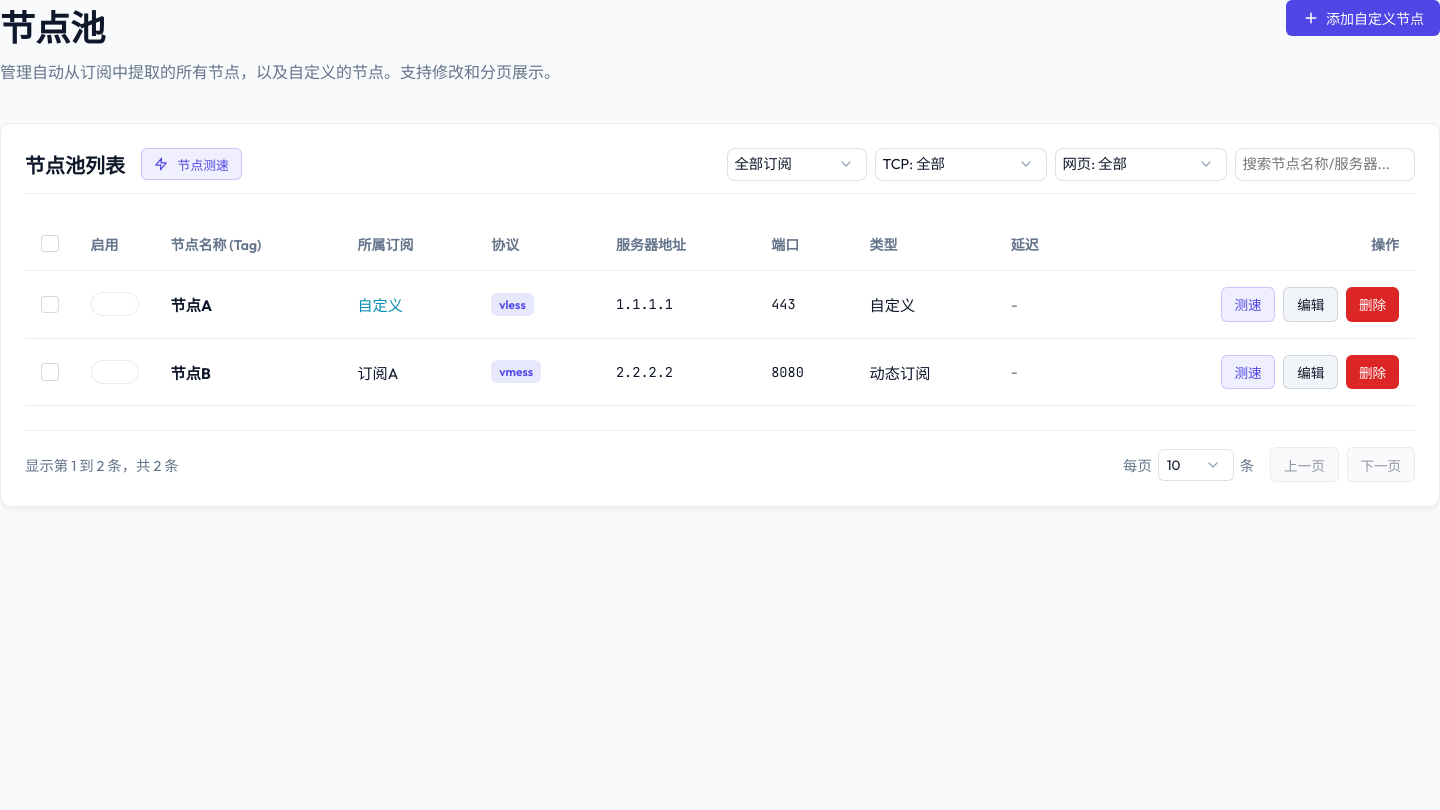
Scenario: NodesView - 节点池管理 › modal 双模式切换 › 点击 'JSON 源码' 切换到 JSON 模式
Click the button "添加自定义节点" at (1363, 18), box [1286,0,1439,36]
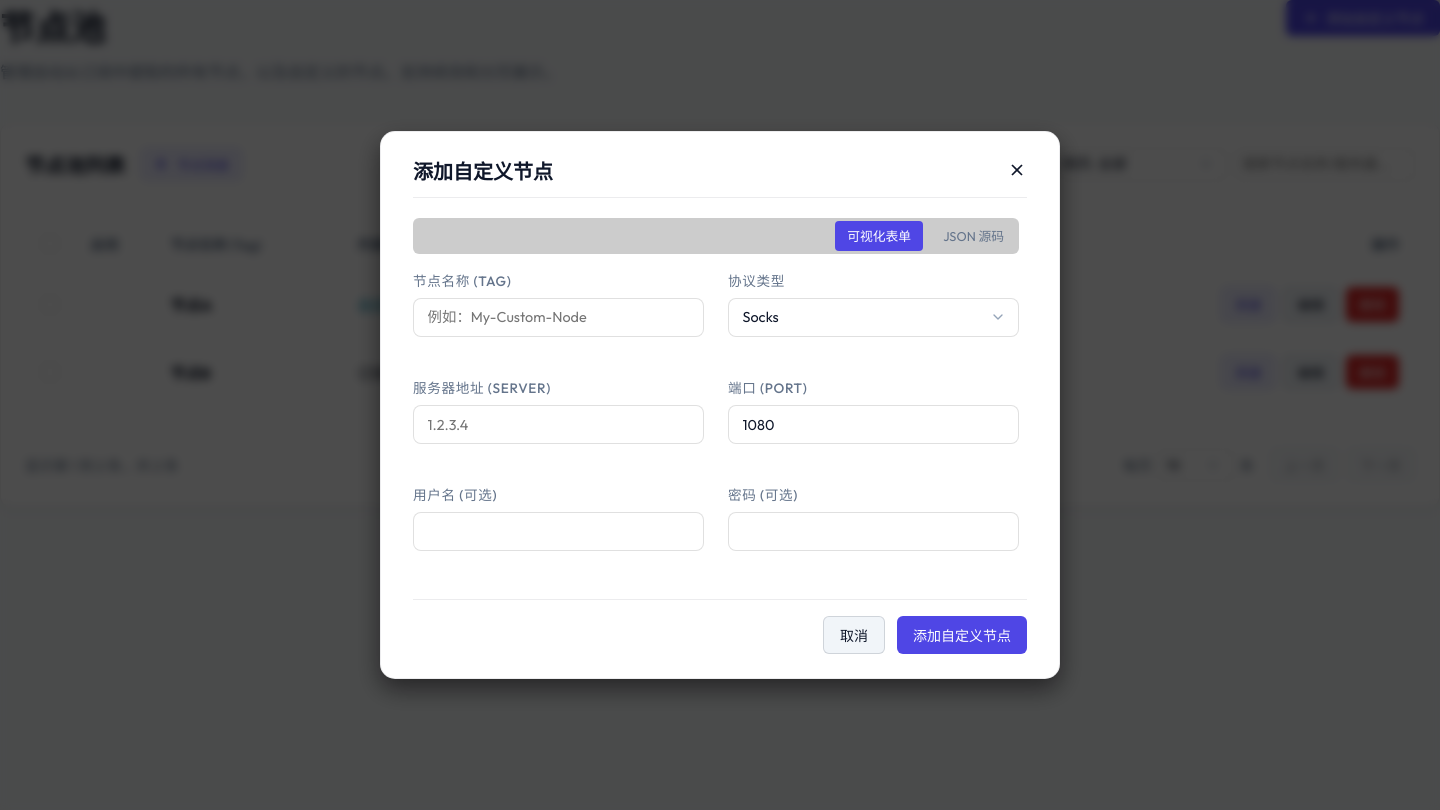
Click the button "JSON 源码" at (974, 236), box [931,221,1016,251]
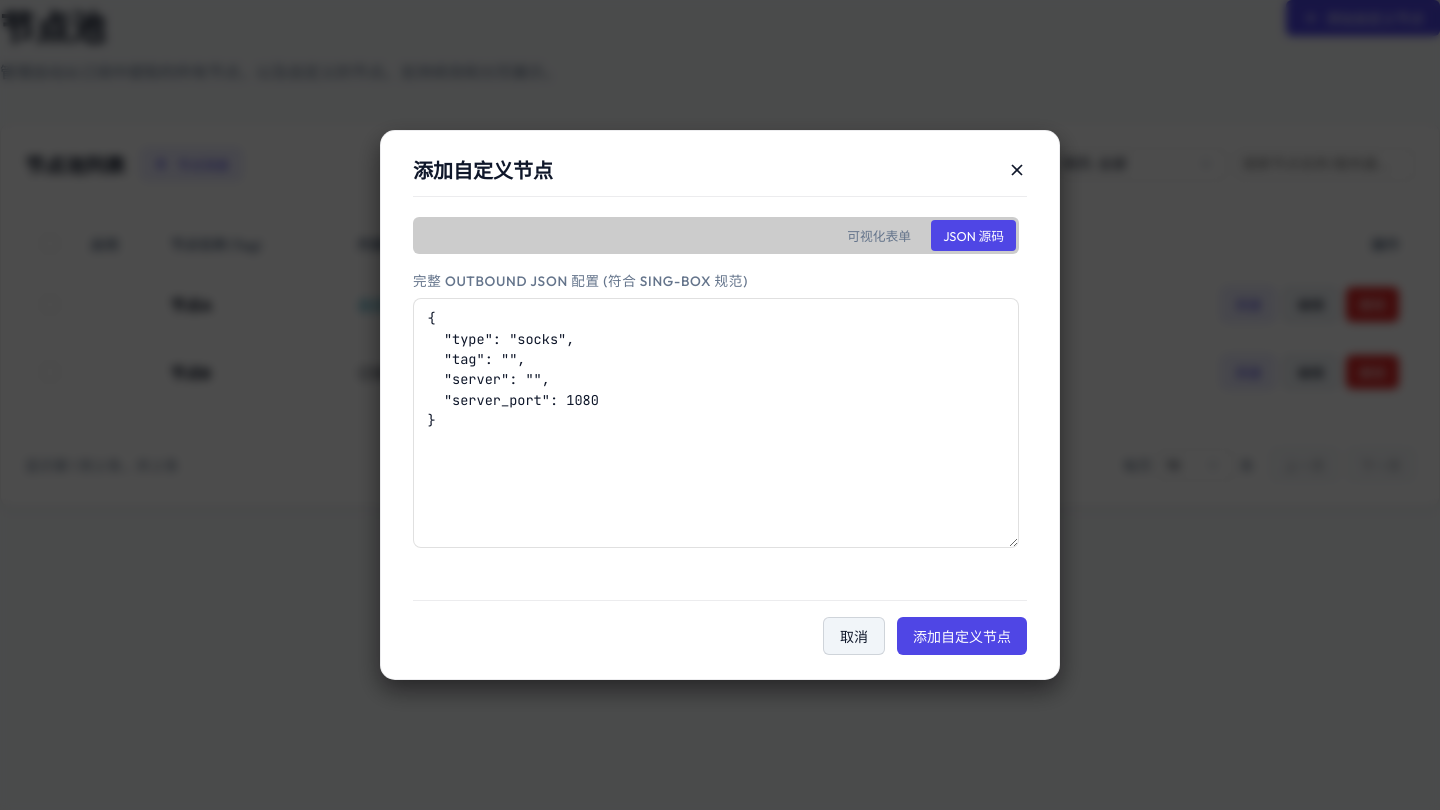
Now the text box is shown, box [413,298,1019,548]
